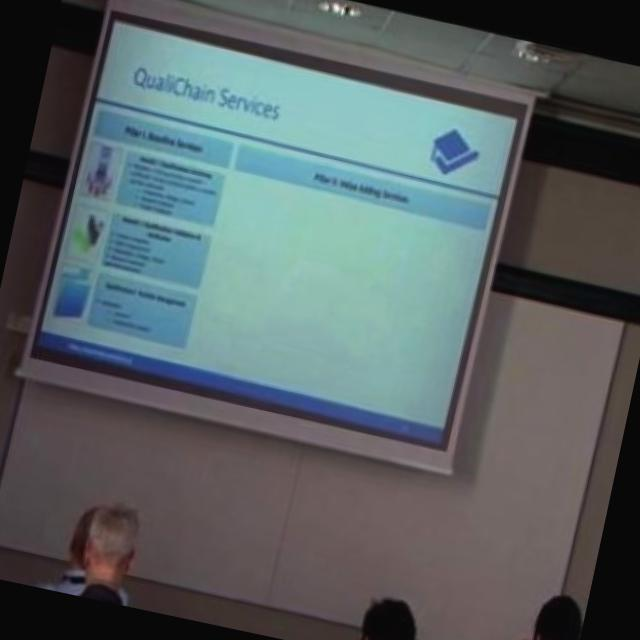Slide: (35, 10, 526, 448)
White-board: (0, 188, 624, 640)
